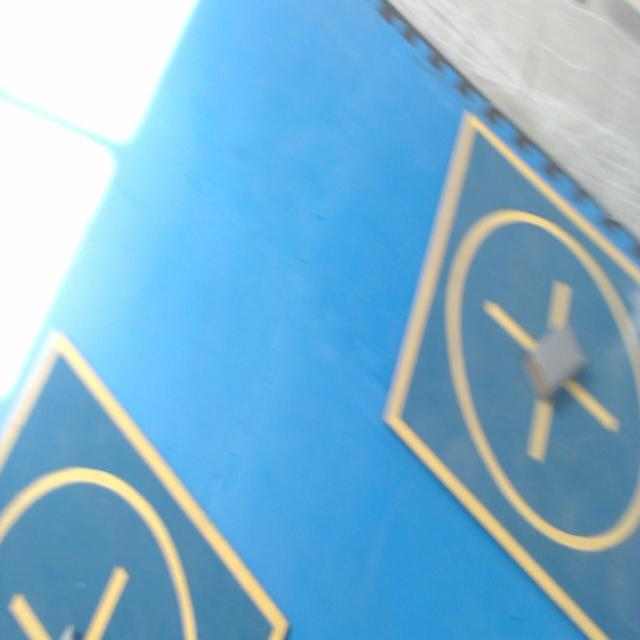direita: (524, 324, 586, 397)
